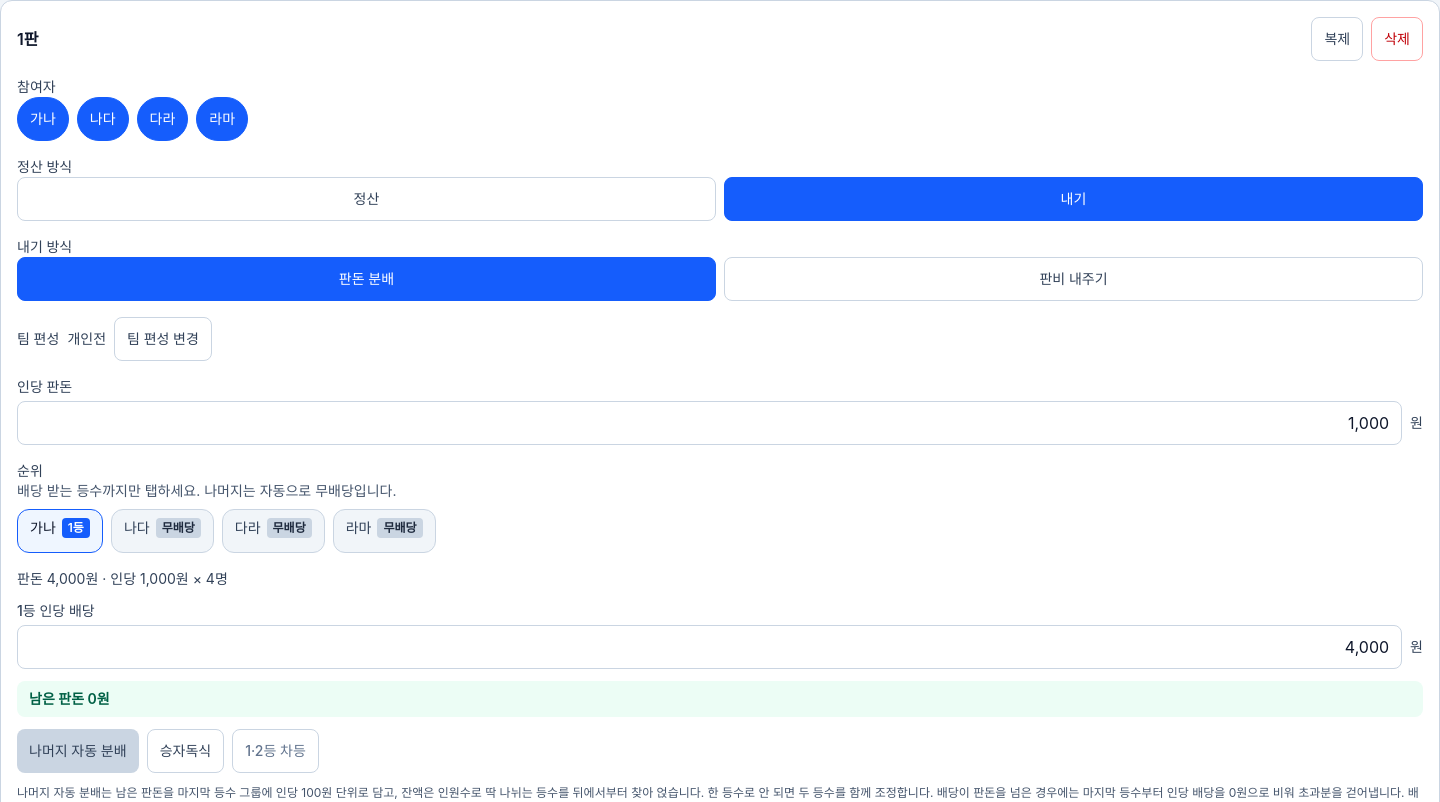
RoundCard › 방식을 transfer로 바꾸면 판돈/배당 UI가 사라지고 진 쪽 선택이 나온다
Expected: the field labelled "인당 판돈" is shown, [17, 401, 1402, 445]
Expected: the element "순위" is shown, [17, 462, 436, 553]
Click the button "판비 내주기".
click(1074, 279)  # box [724, 257, 1423, 301]
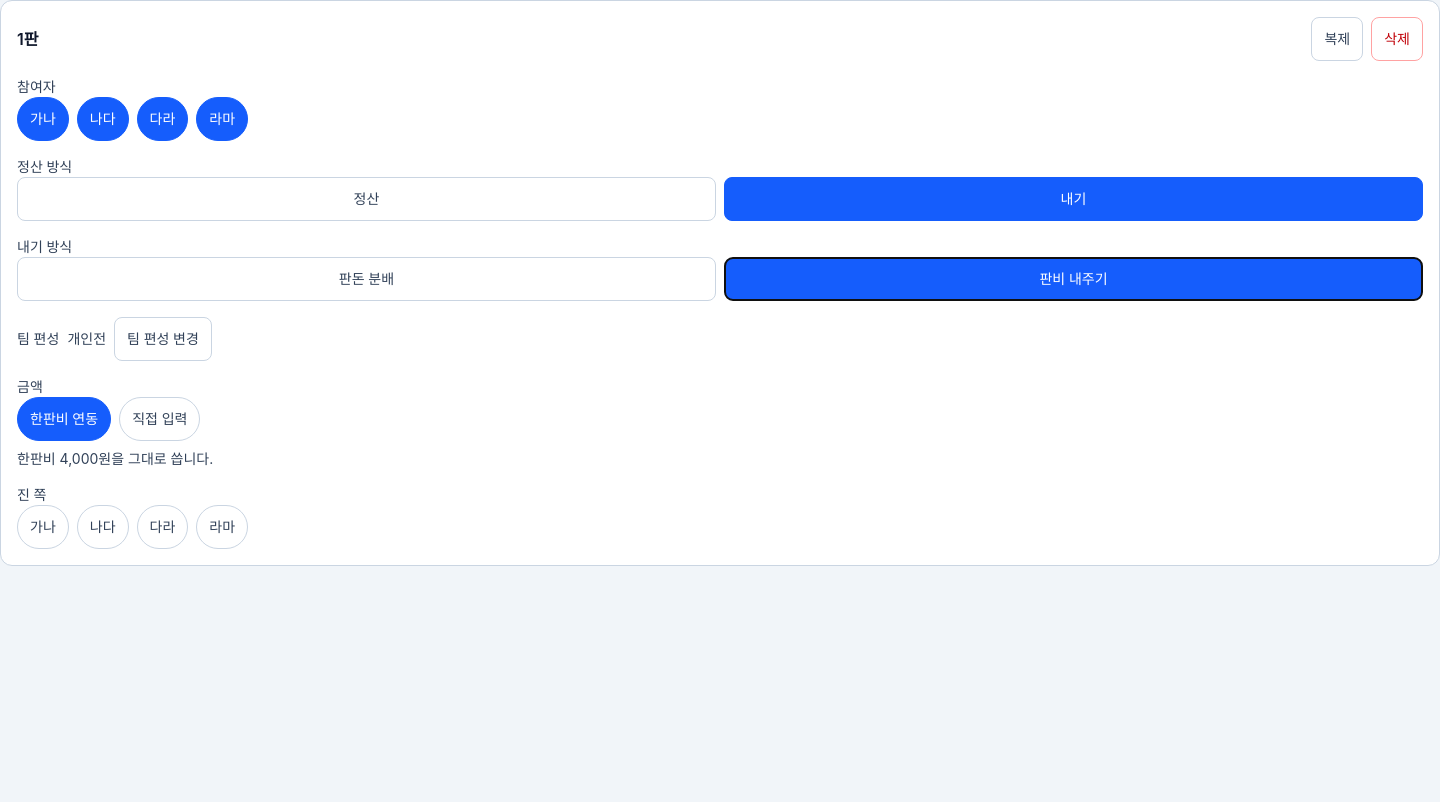
Expected: the label labelled "인당 판돈" is gone
Expected: the text "순위" is gone
Expected: the label labelled "1등 인당 배당" is gone
